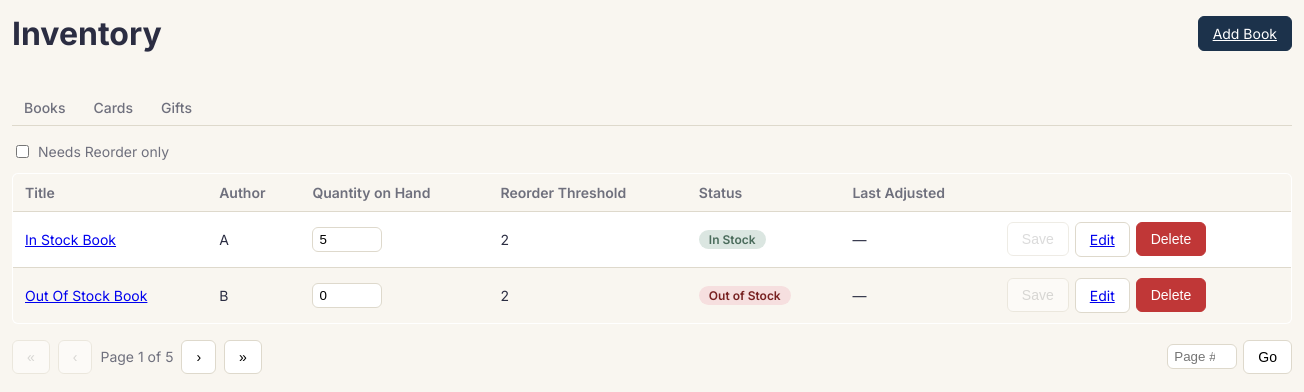
it: InventoryPage › clamps a jump target beyond the last page
Expected: the text "Page 1 of 5" is shown, [100,348,174,365]
Type "99" into the number field named "Go to page" at point(1202, 357), box [1167,344,1237,369]
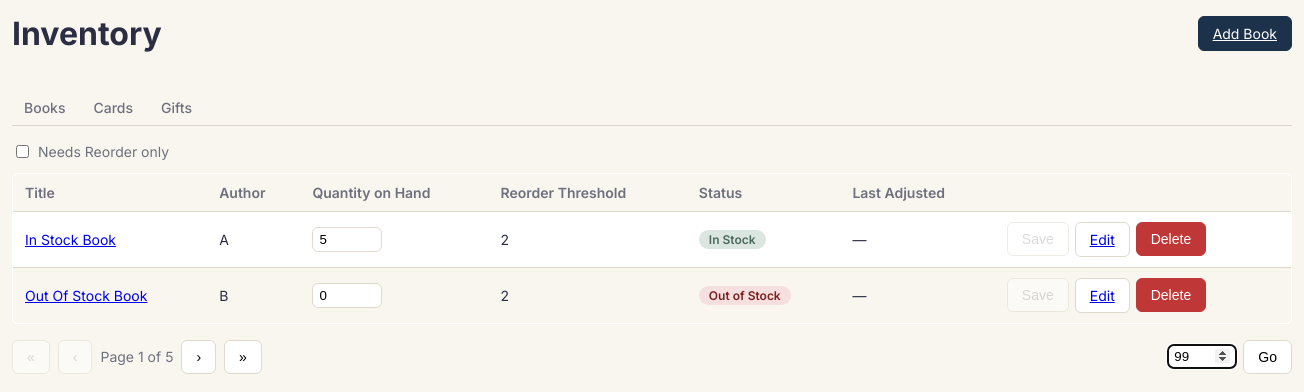
Click the button "Go" at point(1268, 357), box [1243,340,1292,374]
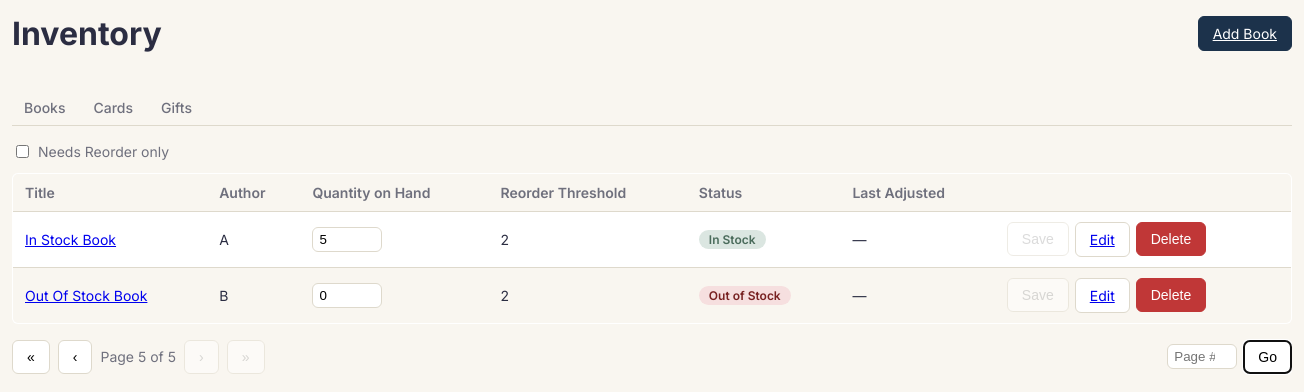
Result: the text "Page 5 of 5" is shown at [100,348,176,365]
